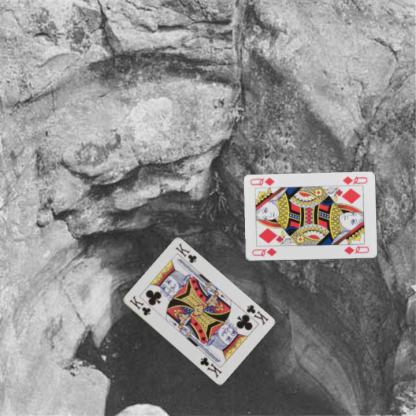Kc: (243, 302, 269, 327), (126, 293, 152, 317)
Qd: (338, 174, 368, 188), (250, 246, 278, 258)
